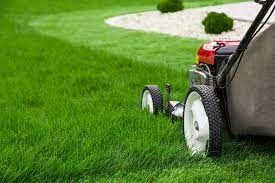grass: (1, 2, 108, 181), (109, 112, 181, 180), (110, 31, 197, 84), (109, 86, 141, 112)
